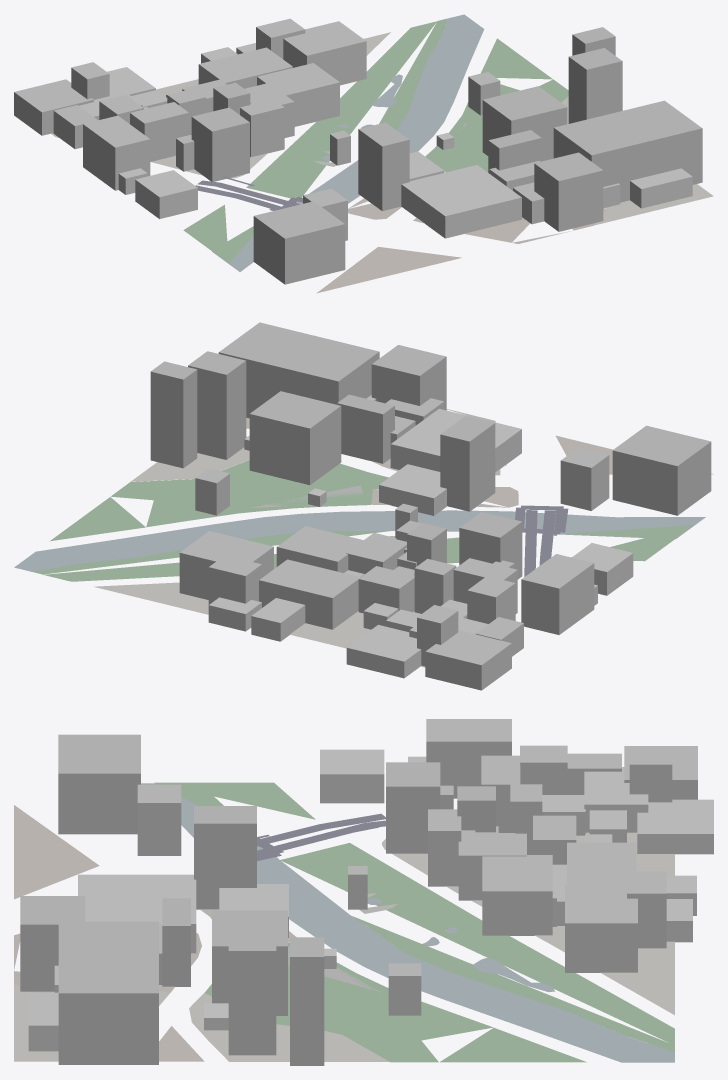
The model's file is 124_103_mid.glb.
3 views of the same model, one above another, from view 1: azimuth 30°, elevation 25°; view 2: azimuth 150°, elevation 25°; view 3: azimuth 270°, elevation 25° (orthographic). The views are drawn at different scales.
Size of the model in its own units: 519 by 91.95 by 530.
